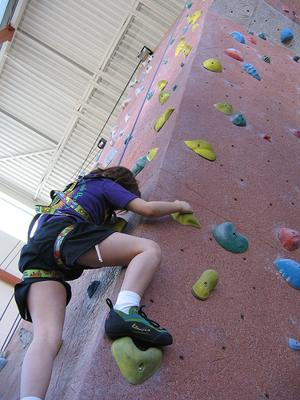person: (13, 167, 194, 400)
